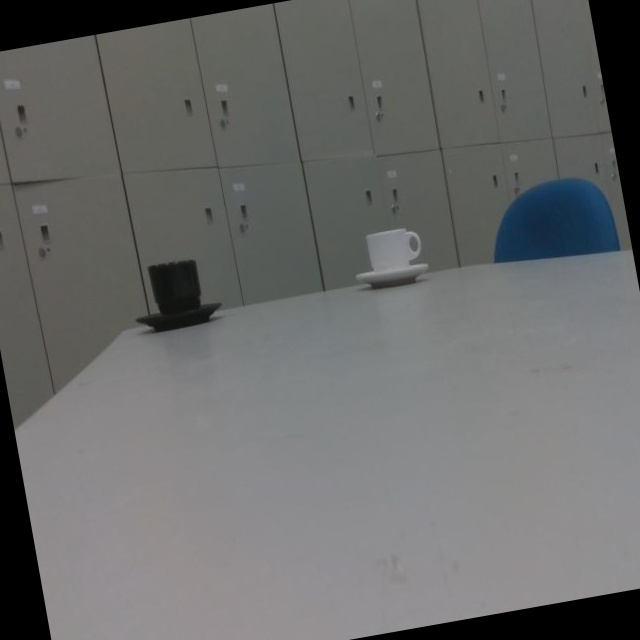black: (132, 258, 222, 329)
white: (353, 228, 429, 291)
